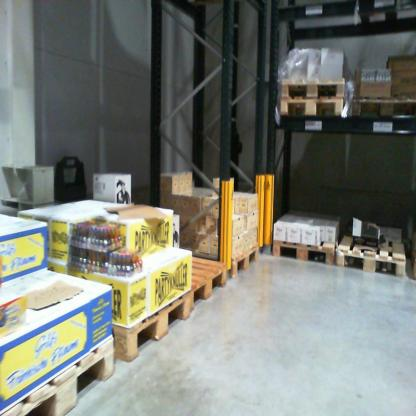pallet: (1, 330, 119, 414), (112, 282, 199, 364), (171, 249, 230, 324), (330, 222, 408, 278), (190, 238, 263, 288), (267, 224, 338, 266), (273, 93, 347, 119), (273, 74, 347, 97), (362, 2, 410, 34), (352, 94, 415, 115), (407, 236, 415, 283)
